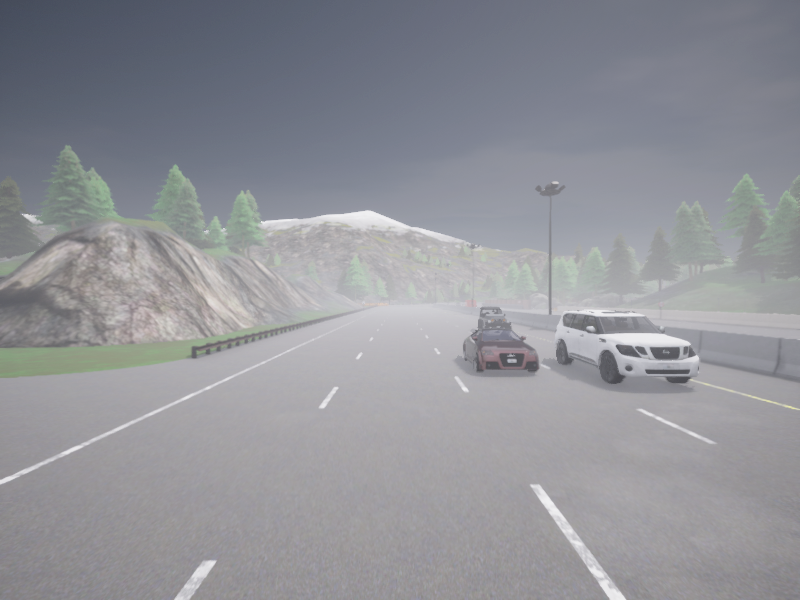vehicle: (554, 310, 698, 383), (463, 328, 538, 372), (477, 307, 511, 329), (464, 300, 476, 306), (455, 302, 460, 305), (462, 301, 464, 304)
